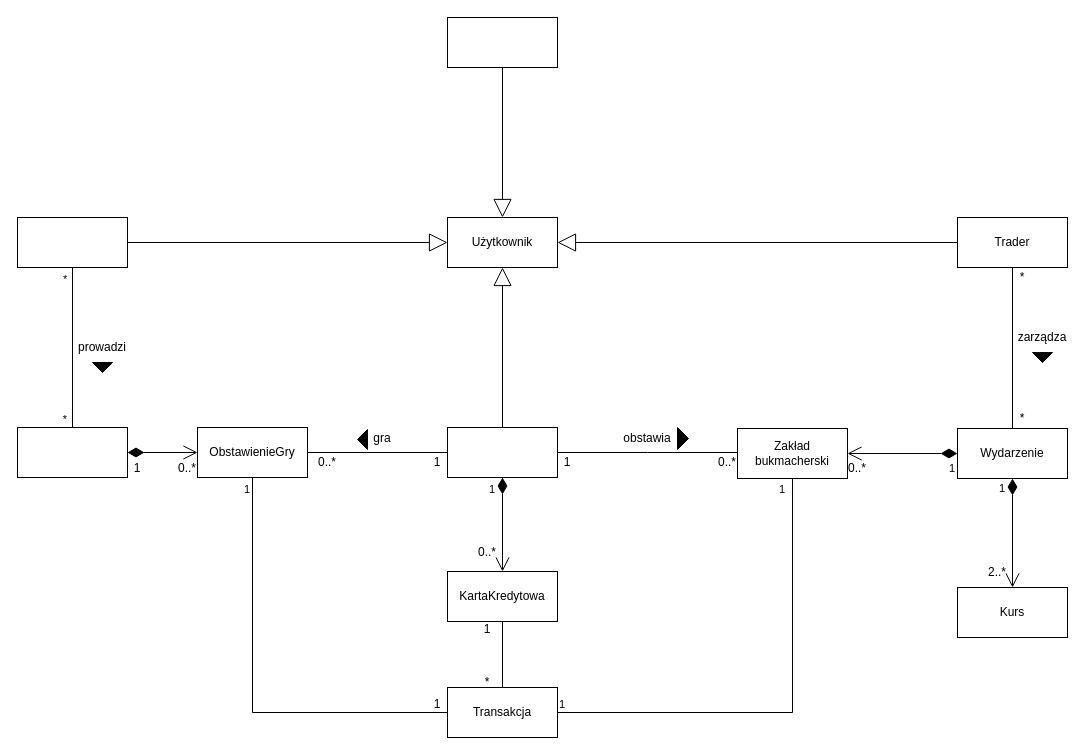
The diagram is 1085 pixels wide and 755 high, and some of its shapes have lost their labels. Each missing label, with the centre of its shape:
"Administrator" belongs at point 502,42.
"Gra losowa" belongs at point 72,452.
"Klient" belongs at point 502,452.
"Krupier" belongs at point 72,242.
